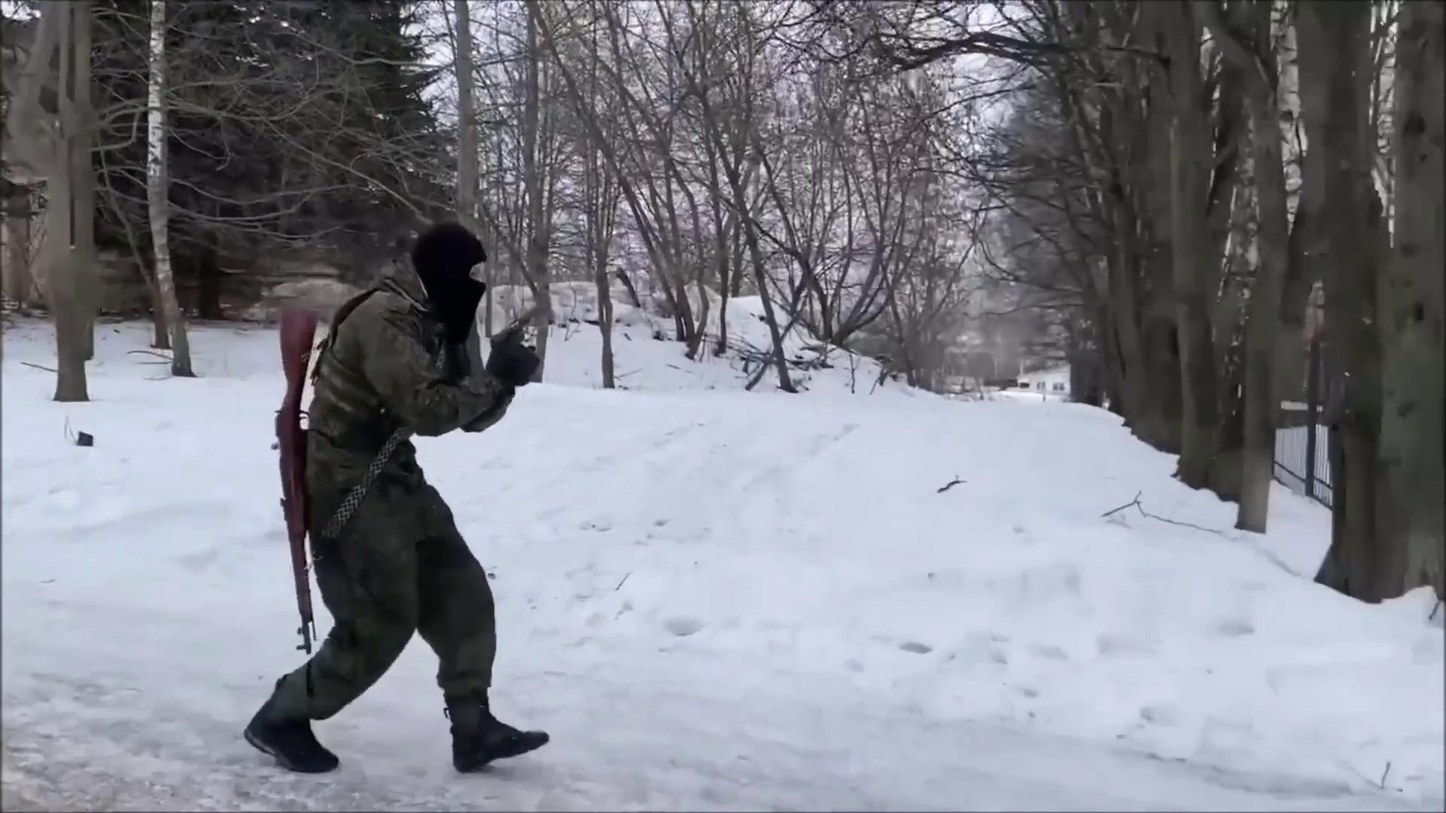person: (241, 218, 551, 776)
pistol: (488, 302, 543, 350)
rifle: (269, 306, 324, 657)
